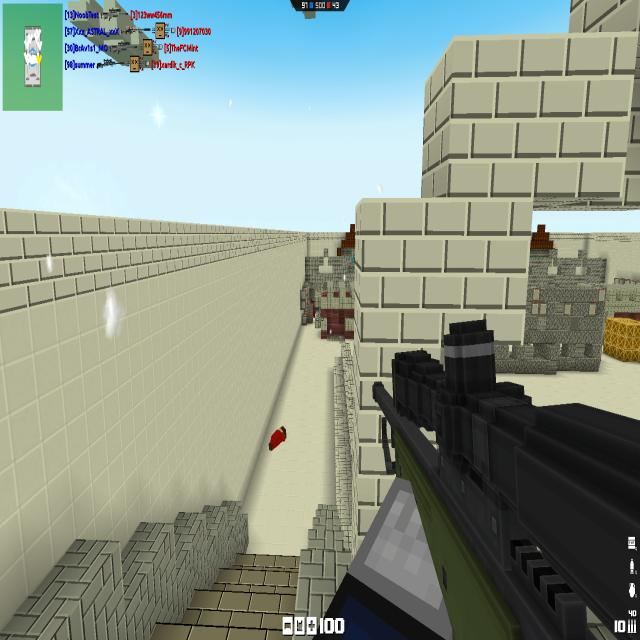player: (269, 426, 287, 451)
